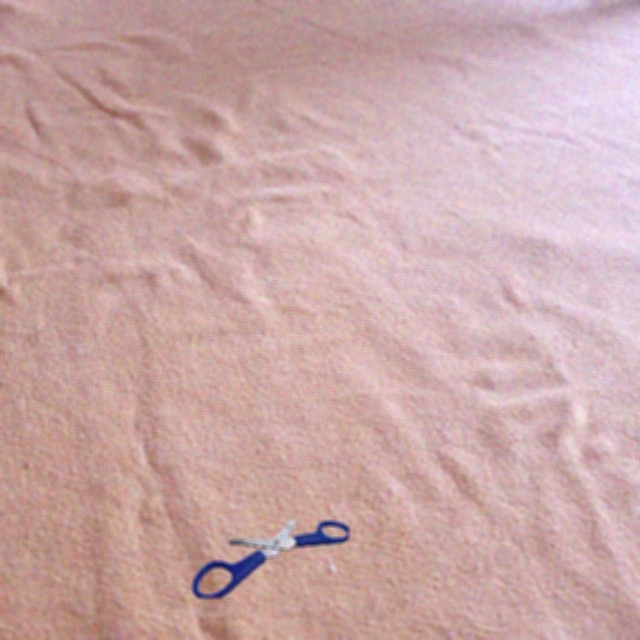scissors: (192, 518, 349, 598)
